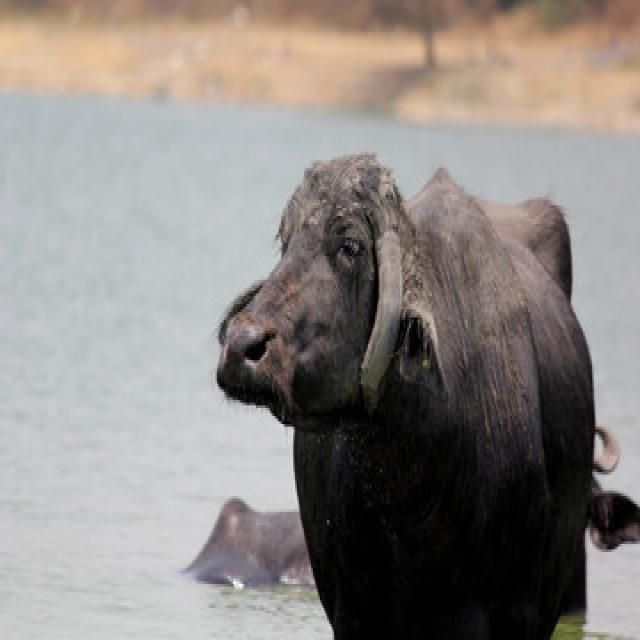Buffalo: (203, 147, 638, 637)
